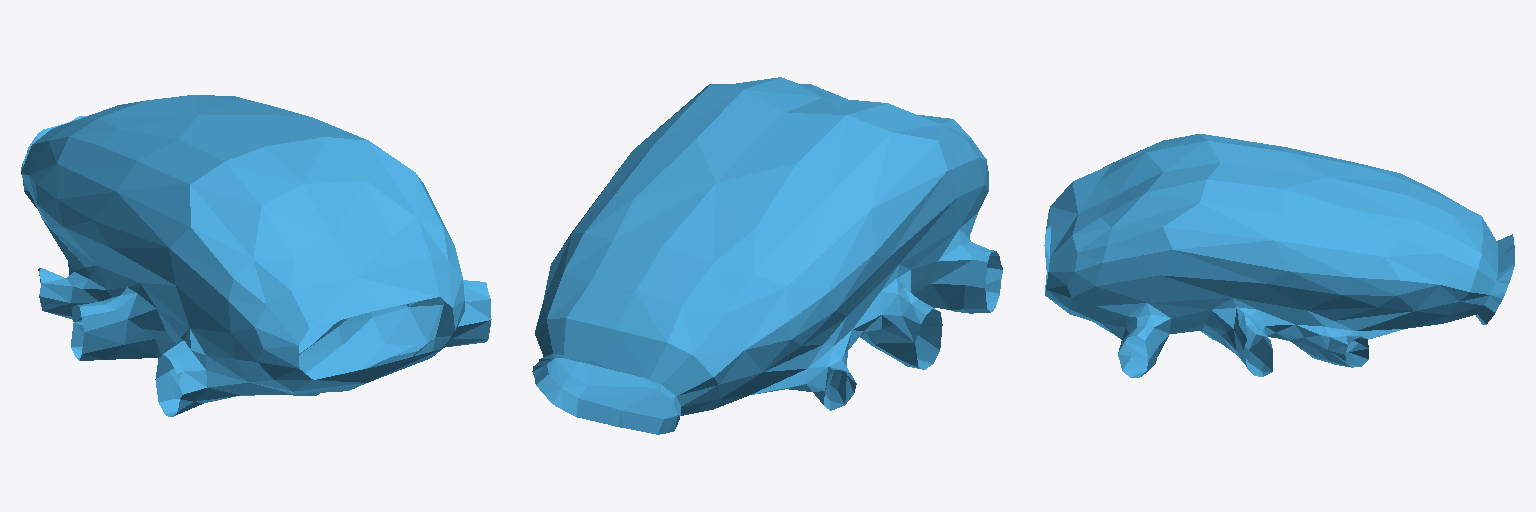
URDF robot description (ant_test_urdf):
<?xml version="1.0"?>
<robot name="ant_test_urdf">

  <link name="base_link"/>
  <joint name="base_link_J" type="fixed">
      <parent link="base_link"/>
      <child link="Thorax"/>
      <origin rpy="0 0 0" xyz="0 0 0"/>
   </joint>

  <link name="Thorax">
      <inertial>
         <origin rpy="0 0 0" xyz="0 0 0"/>
         <mass value="1"/>
         <inertia ixx="0" ixy="0" ixz="0" iyy="0" iyz="0" izz="0"/>
      </inertial>
      <visual>
         <origin xyz="0 0 0" rpy="0 0 0"/>
         <geometry>
            <mesh filename="package://animals_description/meshes/ant/Thorax.stl"/>
         </geometry>
      </visual>
      <collision>
         <origin xyz="0 0 0" rpy="0 0 0"/>
         <geometry>
            <mesh filename="package://animals_description/meshes/ant/Thorax.stl"/>
         </geometry>
      </collision>
   </link>

   <!-- L = left, R = right, F = front, M = middle, B = back -->
   <link name="ThoraxLFThigh_J1"/>
   <link name="ThoraxLFThigh_J2"/>
   <link name="LFThigh">
      <inertial>
         <origin rpy="0 0 0" xyz="0 0 0"/>
         <mass value="1"/>
         <inertia ixx="0.0071027" ixy="-0.00059867" ixz="-2.9564e-05" iyy="0.0046194" iyz="6.6519e-05" izz="0.0080488"/>
      </inertial>
      <visual>
         <origin xyz="0 0 0" rpy="0 0 0"/>
         <geometry>
            <mesh filename="package://animals_description/meshes/ant/LFThigh.stl"/>
         </geometry>
      </visual>
      <collision>
         <origin xyz="0 0 0" rpy="0 0 0"/>
         <geometry>
            <mesh filename="package://animals_description/meshes/ant/LFThigh.stl"/>
         </geometry>
      </collision>
   </link>
   
   <link name="ThoraxLFShank_J1"/>
   <link name="ThoraxLFShank_J2"/>
   <link name="LFShank">
      <inertial>
         <origin rpy="0 0 0" xyz="0 0 0"/>
         <mass value="1"/>
         <inertia ixx="0.0071027" ixy="-0.00059867" ixz="-2.9564e-05" iyy="0.0046194" iyz="6.6519e-05" izz="0.0080488"/>
      </inertial>
      <visual>
         <origin xyz="0 0 0" rpy="0 0 0"/>
         <geometry>
            <mesh filename="package://animals_description/meshes/ant/LFShank.stl"/>
         </geometry>
      </visual>
      <collision>
         <origin xyz="0 0 0" rpy="0 0 0"/>
         <geometry>
            <mesh filename="package://animals_description/meshes/ant/LFShank.stl"/>
         </geometry>
      </collision>
   </link>

   <!-- JOINTS -->

   <!-- left side -->
   <joint name="ThoraxLFThigh_J1" type="revolute">
      <parent link="Thorax"/>
      <child link="ThoraxLFThigh_J1"/>
      <origin rpy="0 0 0" xyz="0.0743 -0.0223 0.1894"/>
      <axis xyz="1 0 0"/>
      <limit effort="0" lower="-0.4" upper="0.4" velocity="1.0"/>
   </joint>
   <joint name="ThoraxLFThigh_J2" type="revolute">
      <parent link="ThoraxLFThigh_J1"/>
      <child link="ThoraxLFThigh_J2"/>
      <origin rpy="0 0 0" xyz="0 0 0"/>
      <axis xyz="0 1 0"/>
      <limit effort="0" lower="-0.4" upper="0.4" velocity="1.0"/>
   </joint>
   <joint name="LFThigh" type="revolute">
      <parent link="ThoraxLFThigh_J2"/>
      <child link="LFThigh"/>
      <origin rpy="0 0 0" xyz="0 0 0"/>
      <axis xyz="0 0 1"/>
      <limit effort="0" lower="-0.2" upper="0.2" velocity="1.0"/>
   </joint>
   <joint name="ThoraxLFShank_J1" type="revolute">
      <parent link="LFThigh"/>
      <child link="ThoraxLFShank_J1"/>
      <origin rpy="0 0 0" xyz="0.1217 -0.0662 0.0268"/>
      <axis xyz="1 0 0"/>
      <limit effort="0" lower="-0.4" upper="0.4" velocity="1.0"/>
   </joint>
   <joint name="ThoraxLFShank_J2" type="revolute">
      <parent link="ThoraxLFShank_J1"/>
      <child link="ThoraxLFShank_J2"/>
      <origin rpy="0 0 0" xyz="0 0 0"/>
      <axis xyz="0 1 0"/>
      <limit effort="0" lower="-0.4" upper="0.4" velocity="1.0"/>
   </joint>
   <joint name="LFShank" type="revolute">
      <parent link="ThoraxLFShank_J2"/>
      <child link="LFShank"/>
      <origin rpy="0 0 0" xyz="0 0 0"/>
      <axis xyz="0 0 1"/>
      <limit effort="0" lower="-0.2" upper="0.2" velocity="1.0"/>
   </joint>
</robot>

--- Render facts (derived) ---
Views: 3 orthographic renders of the robot side by side, from view 1: azimuth 30°, elevation 25°; view 2: azimuth 150°, elevation 25°; view 3: azimuth 270°, elevation 25°.
Robot: ant_test_urdf — 8 links, 7 joints (6 revolute, 1 fixed); root link base_link; default pose: every joint at zero.
Visible links, largest first — view 1: Thorax; view 2: Thorax; view 3: Thorax.
Boxes of the visible links, x1,y1,x2,y2 form: Thorax: (21,95,491,416); Thorax: (532,77,1002,434); Thorax: (1044,134,1514,377).
Bounding box of the posed robot: 0.1535 × 0.2339 × 0.0939 m (x, y, z).
Meshes: 3 distinct files referenced, 1 mesh visuals loaded (1 binary STL); not drawn: 2 (reference not matched to a file when rendering).